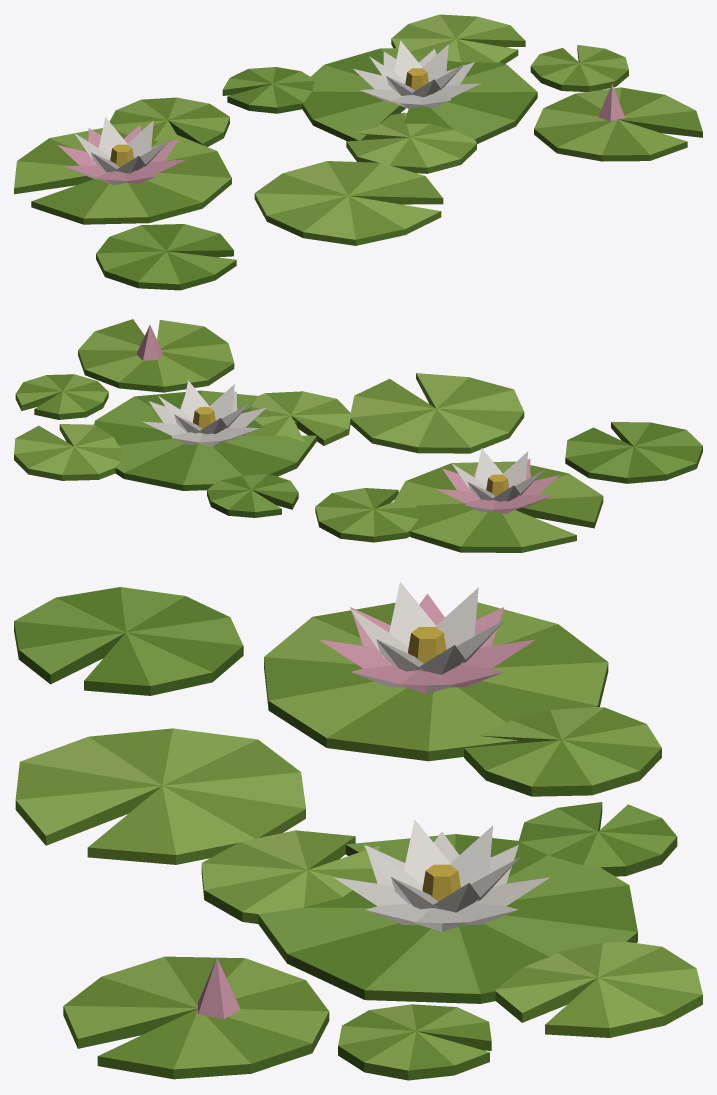
File: river_lilypads.glb
3 views of the same model, one above another, from view 1: azimuth 30°, elevation 25°; view 2: azimuth 150°, elevation 25°; view 3: azimuth 270°, elevation 25° (orthographic). The views are drawn at different scales.
Parts seen in each view (by area): view 1: river_lilypads; view 2: river_lilypads; view 3: river_lilypads.
Part boxes in pixels (x1,y1,x2,y2): river_lilypads: (14, 14, 702, 290); river_lilypads: (14, 319, 702, 552); river_lilypads: (14, 582, 702, 1080).
Size of the model in its own units: 3.15 by 0.22 by 1.9.
